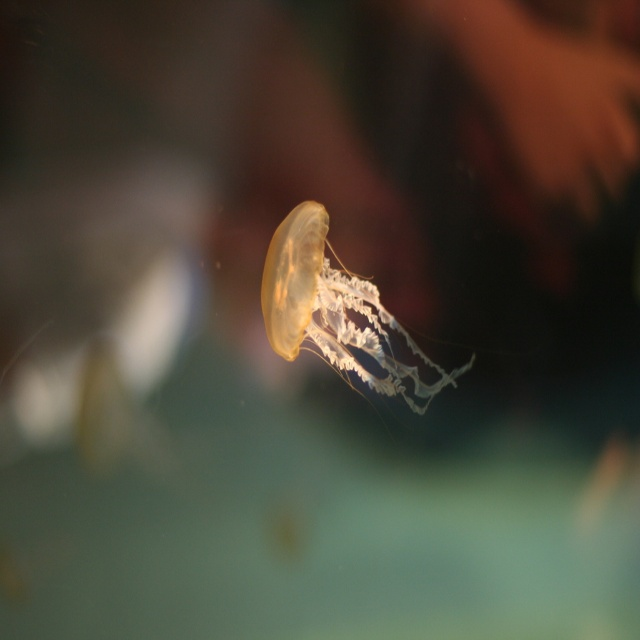Jellyfish: (259, 197, 474, 439)
